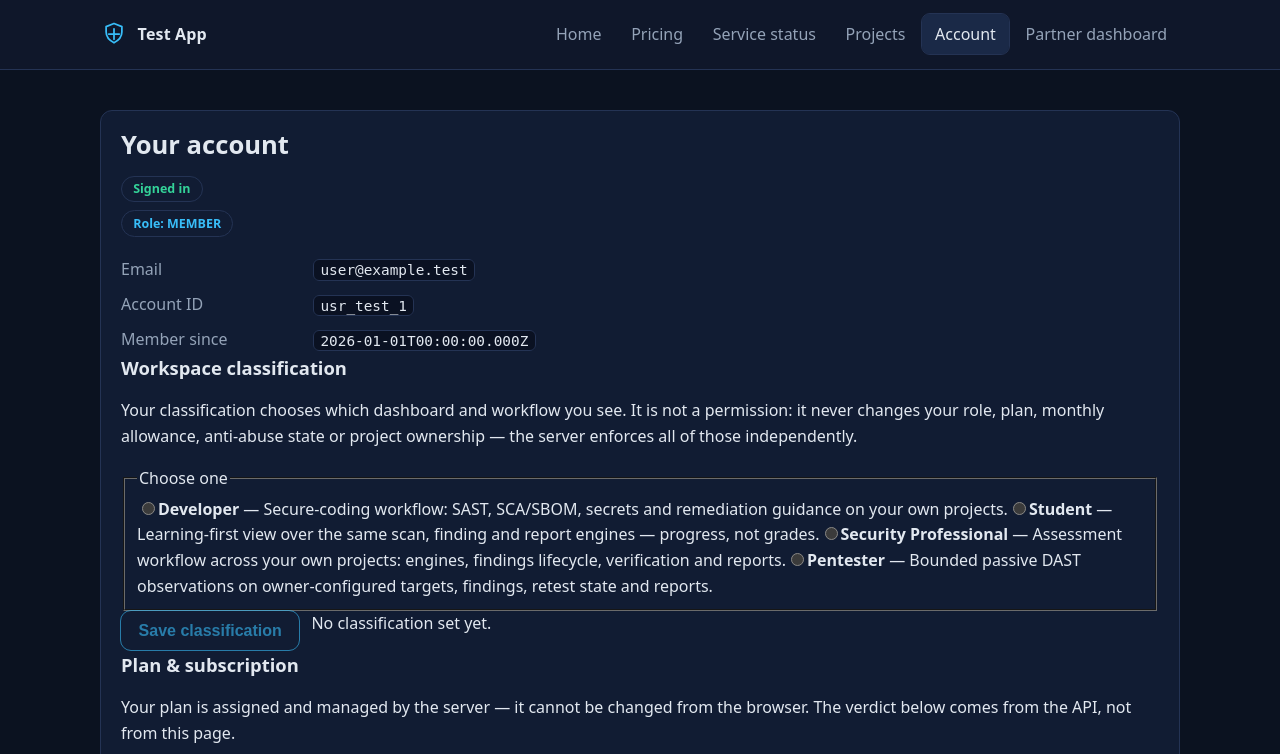
Test: Phase 20 — AccountPage workspace classification switch › renders the four classifications honestly and saves through the API
The width and height of the screenshot is (1280, 754).
Expected: the element with test id "usertype-panel" is shown, [121,353,1159,650]
Expected: the text "not a permission" is shown, [121,399,1104,447]
Click the 2nd radio button: {"x": 1019, "y": 508} [1013,502,1026,515]
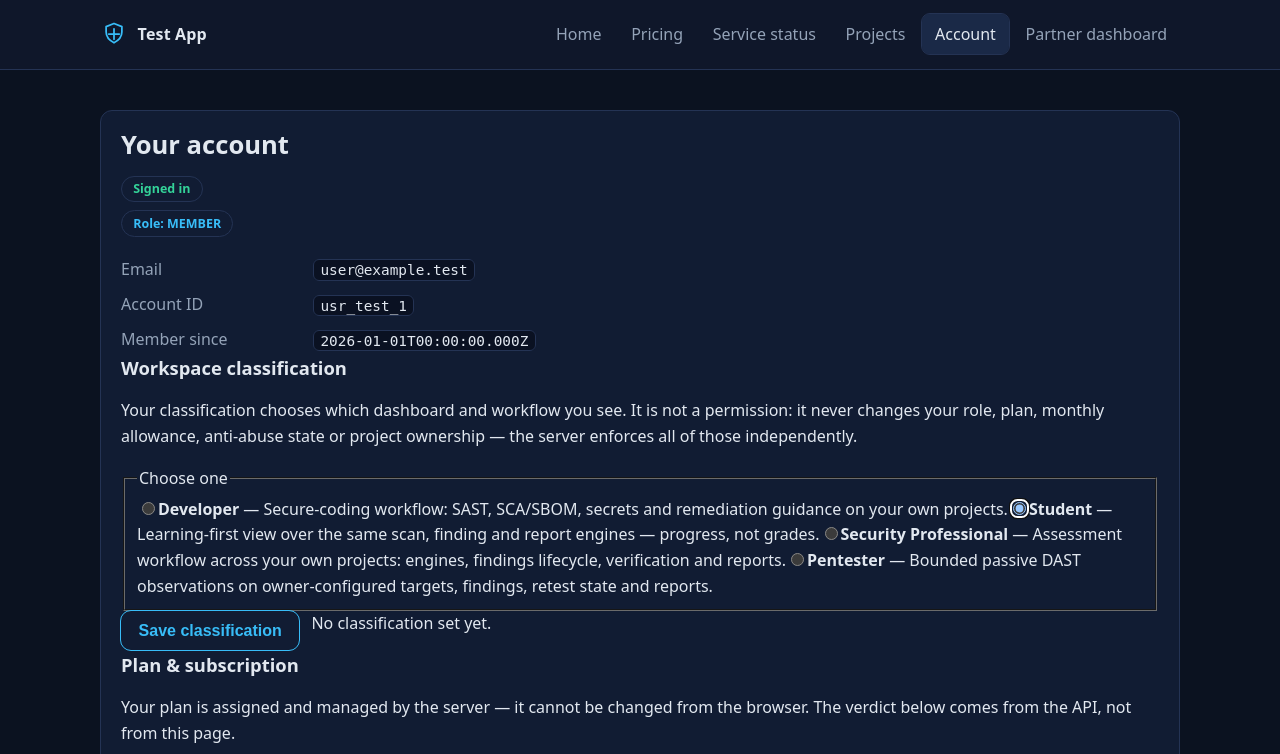
Expected: the button with test id "usertype-save" is enabled
Click the button with test id "usertype-save": {"x": 210, "y": 631} [121,611,299,650]
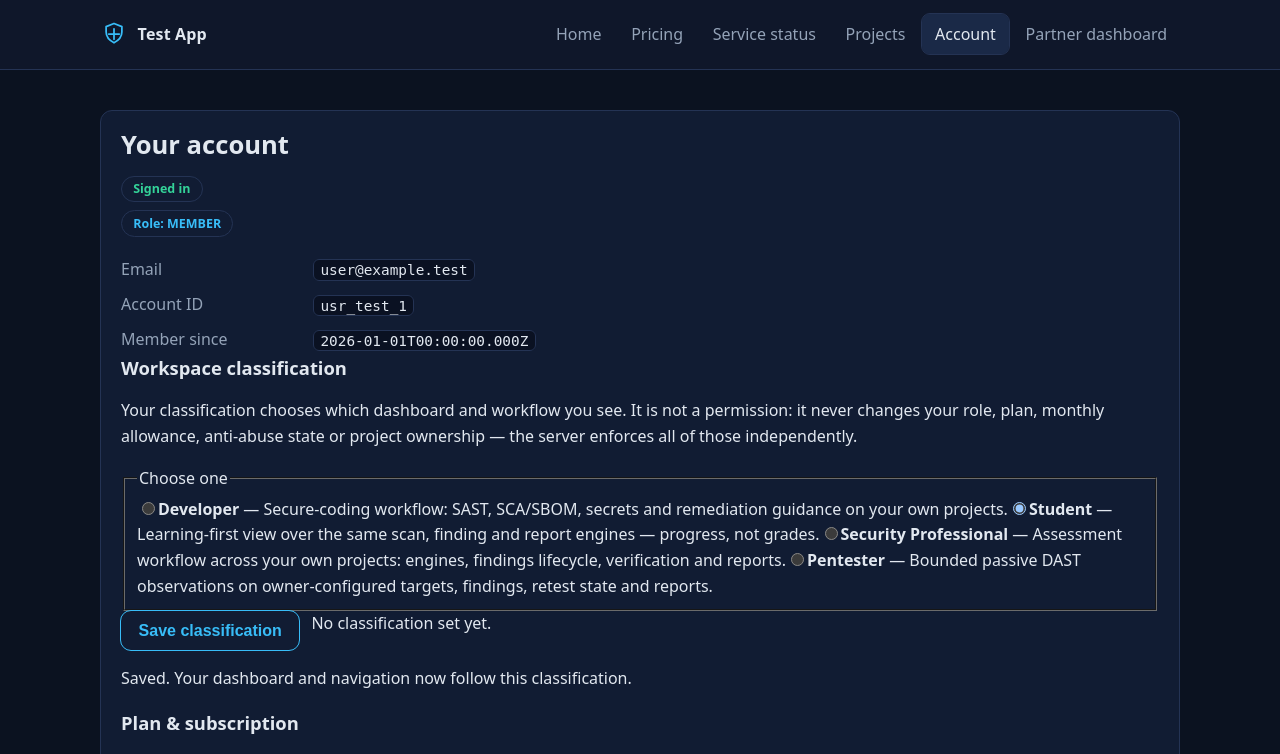
Expected: the message "Saved. Your dashboard and navigation now follow this classification." is shown, [121,667,632,689]
